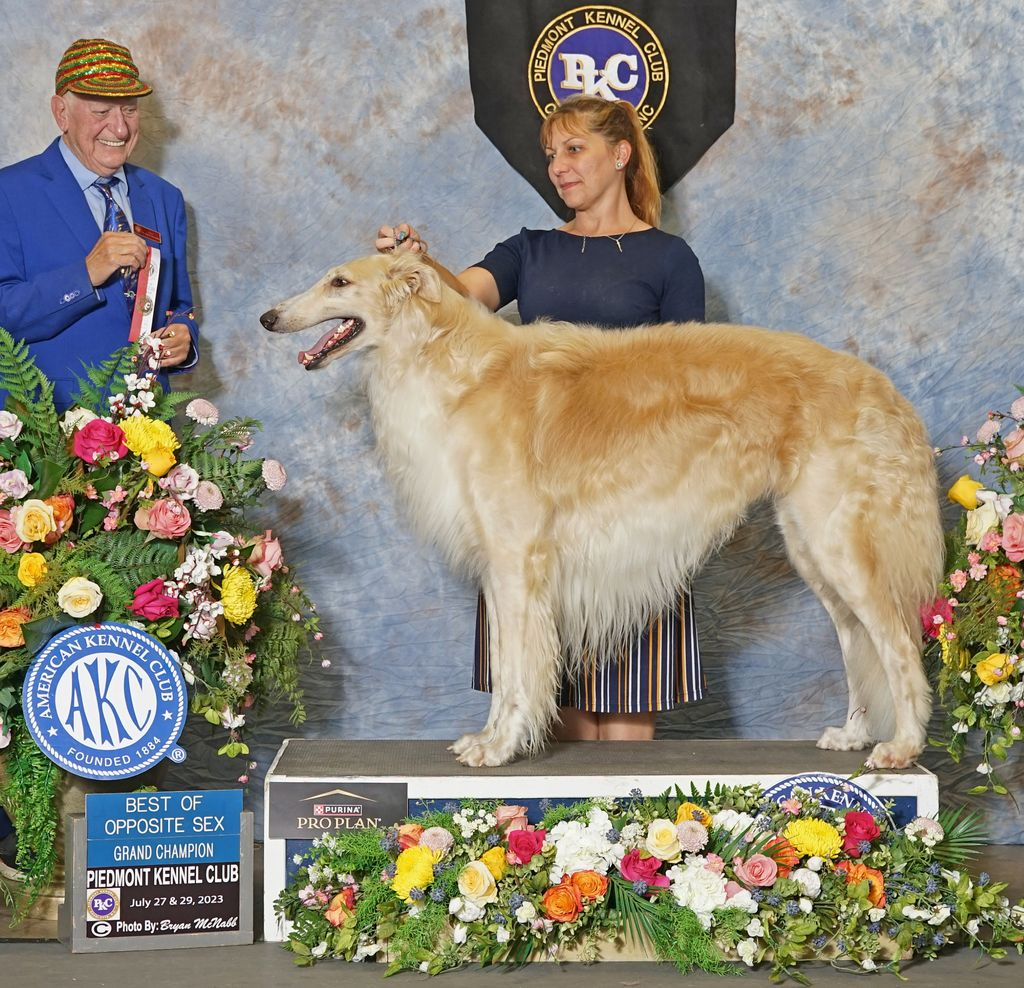borzoi: (238, 249, 948, 777)
